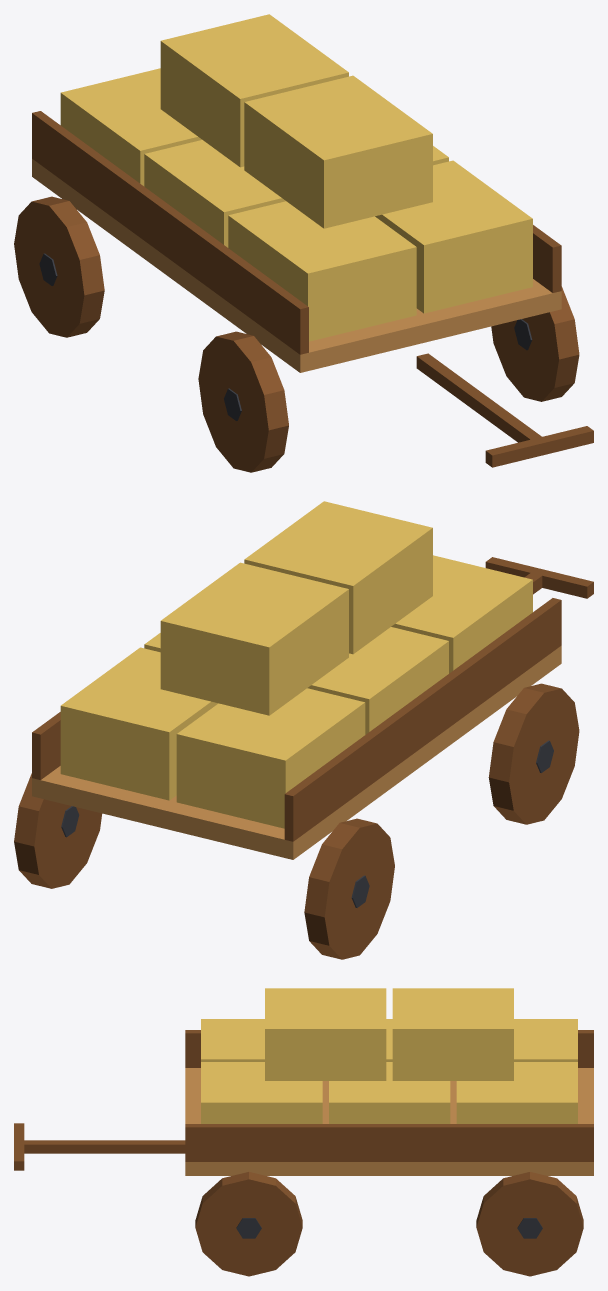
The model's file is hay_wagon.glb.
3 views of the same model, one above another, from view 1: azimuth 30°, elevation 25°; view 2: azimuth 150°, elevation 25°; view 3: azimuth 270°, elevation 25° (orthographic). The views are drawn at different scales.
Parts seen in each view (by area): view 1: hay_wagon; view 2: hay_wagon; view 3: hay_wagon.
Boxes of the visible parts, x1,y1,x2,y2 form: hay_wagon: [14, 14, 593, 472]; hay_wagon: [14, 501, 593, 959]; hay_wagon: [14, 988, 593, 1276].
Size of the model in its own units: 2.16 by 1.82 by 4.54.
